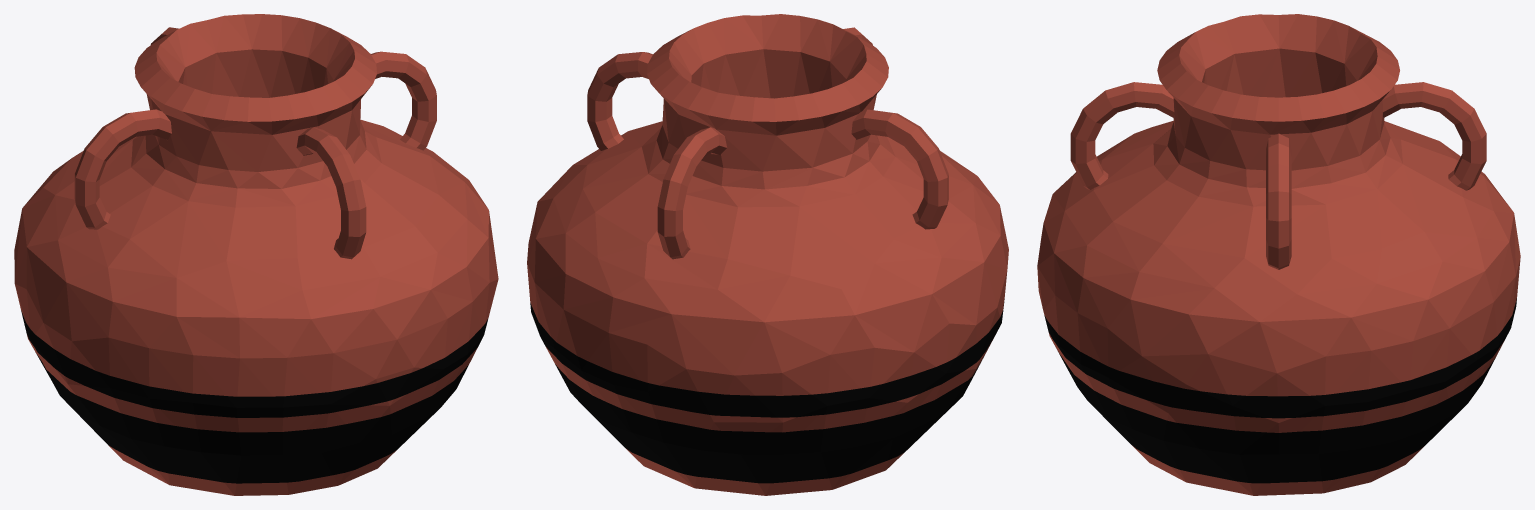
File: Pottery 15_3b.fbx
The picture shows the model from 3 angles, left to right: view 1: azimuth 30°, elevation 25°; view 2: azimuth 150°, elevation 25°; view 3: azimuth 270°, elevation 25°; orthographic projection.
Parts seen in each view (by area): view 1: Pottery 15_3.001, Pottery 15_3.004, Pottery 15_3.008, Pottery 15_3.010, Pottery 15_3.005, Pottery 15_3.007, Pottery 15_3b, Pottery 15_3.006, Pottery 15_3.003, Pottery 15_3.009; view 2: Pottery 15_3.003, Pottery 15_3.009, Pottery 15_3.004, Pottery 15_3b, Pottery 15_3.007, Pottery 15_3.006, Pottery 15_3.001, Pottery 15_3.005; view 3: Pottery 15_3.006, Pottery 15_3b, Pottery 15_3.003, Pottery 15_3.005, Pottery 15_3.001, Pottery 15_3.004, Pottery 15_3.008, Pottery 15_3.009.
Boxes of the visible parts, x1,y1,x2,y2 form: Pottery 15_3.001: (108, 87, 379, 358); Pottery 15_3.004: (22, 38, 211, 282); Pottery 15_3.008: (282, 277, 472, 454); Pottery 15_3.010: (100, 348, 287, 465); Pottery 15_3.005: (318, 58, 489, 301); Pottery 15_3.007: (14, 247, 149, 425); Pottery 15_3b: (65, 238, 498, 495); Pottery 15_3.006: (270, 18, 498, 276); Pottery 15_3.003: (132, 14, 299, 139); Pottery 15_3.009: (14, 139, 132, 282); Pottery 15_3.003: (527, 59, 799, 332); Pottery 15_3.009: (609, 207, 931, 422); Pottery 15_3.004: (762, 54, 984, 314); Pottery 15_3b: (527, 205, 957, 495); Pottery 15_3.007: (870, 223, 1008, 437); Pottery 15_3.006: (538, 18, 739, 201); Pottery 15_3.001: (771, 16, 1008, 248); Pottery 15_3.005: (724, 14, 800, 98); Pottery 15_3.006: (1130, 90, 1381, 405); Pottery 15_3b: (1059, 276, 1516, 495); Pottery 15_3.003: (1334, 34, 1515, 340); Pottery 15_3.005: (1054, 64, 1230, 328); Pottery 15_3.001: (1053, 22, 1243, 210); Pottery 15_3.004: (1224, 14, 1427, 136); Pottery 15_3.008: (1037, 194, 1077, 384); Pottery 15_3.009: (1384, 121, 1520, 303).
Size of the model in its own units: 53.28 by 45.94 by 52.99.
